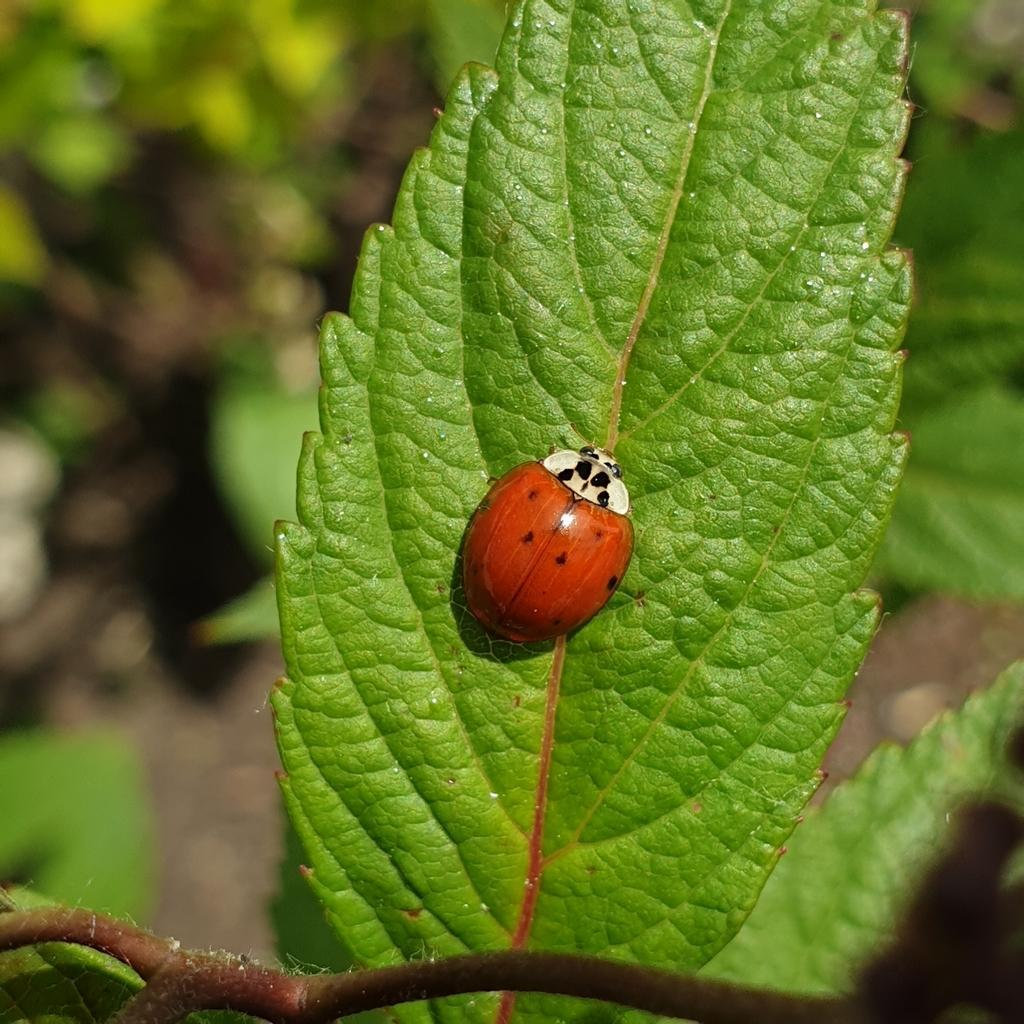ladybug: (454, 441, 641, 649)
